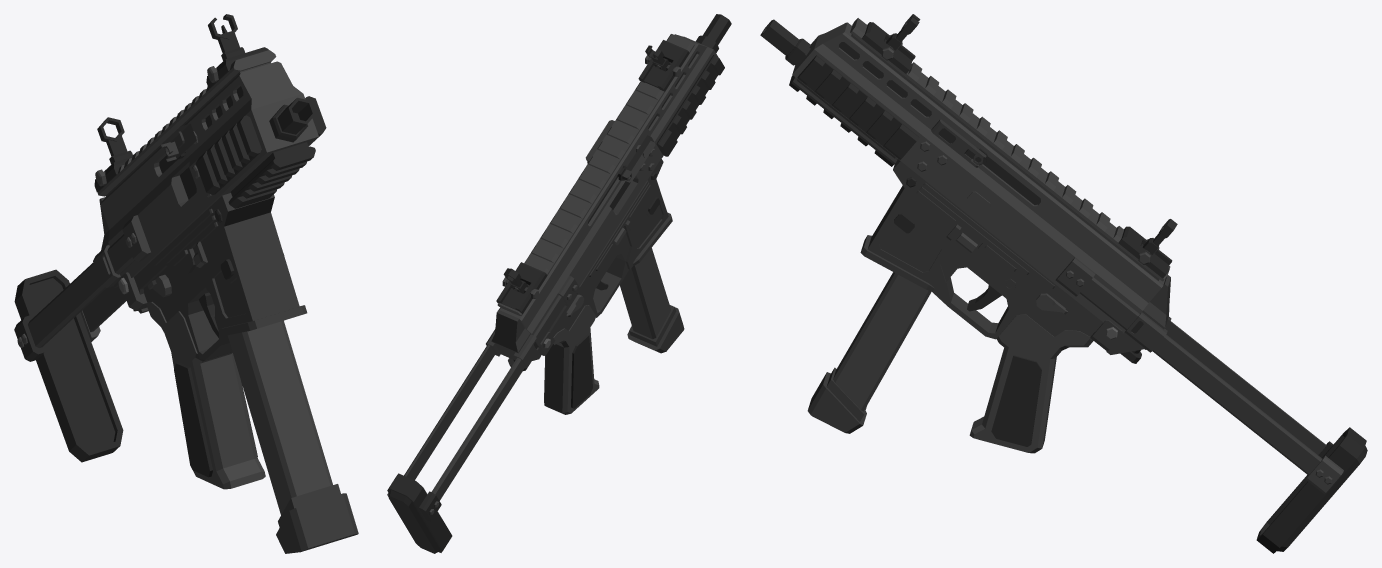
Rendered from Smg.glb.
The picture shows the model from 3 angles, left to right: view 1: azimuth 30°, elevation 25°; view 2: azimuth 150°, elevation 25°; view 3: azimuth 270°, elevation 25°; orthographic projection. The views are drawn at different scales.
Parts seen in each view (by area): view 1: Smg; view 2: Smg; view 3: Smg.
Part boxes in pixels (left/top/right/bottom): Smg: left=14, top=14, right=358, bottom=553; Smg: left=387, top=14, right=731, bottom=553; Smg: left=760, top=14, right=1367, bottom=553.
Bounding box in the file's own units: 0.1551 × 0.5205 × 0.5798.
Materials: 1 (1 with a texture image).
